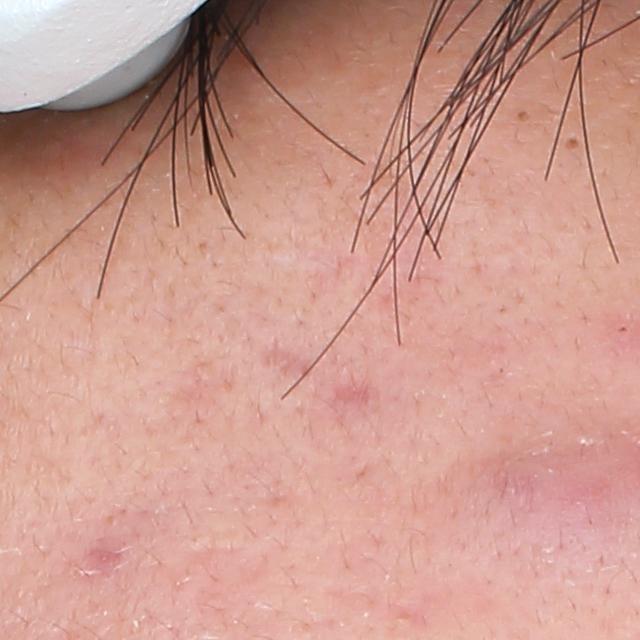comedo: (561, 131, 584, 155), (508, 105, 535, 124)
